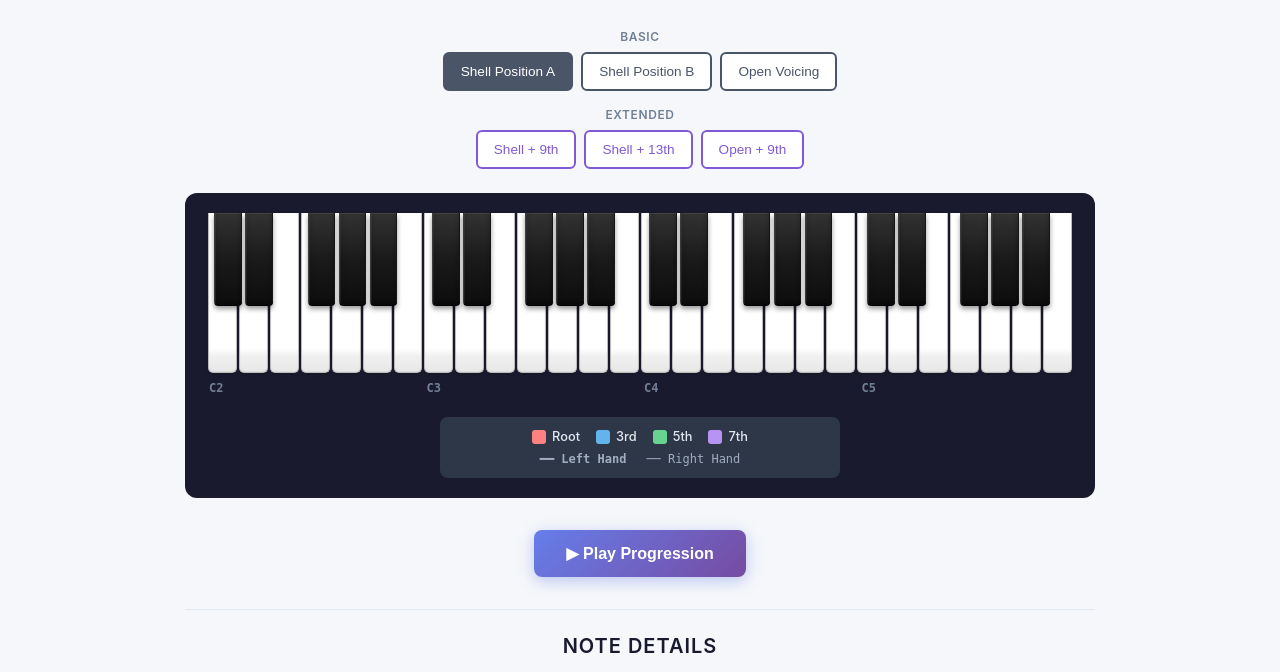
Test: VoicingDisplay › displays different notes for Shell Position B
Switch to Shell B
What coordinates should you click on to do the following:
click the button "Shell Position B"
I would click on:
 (647, 72)
Its box is [581,52,712,91].
(page scrolled)
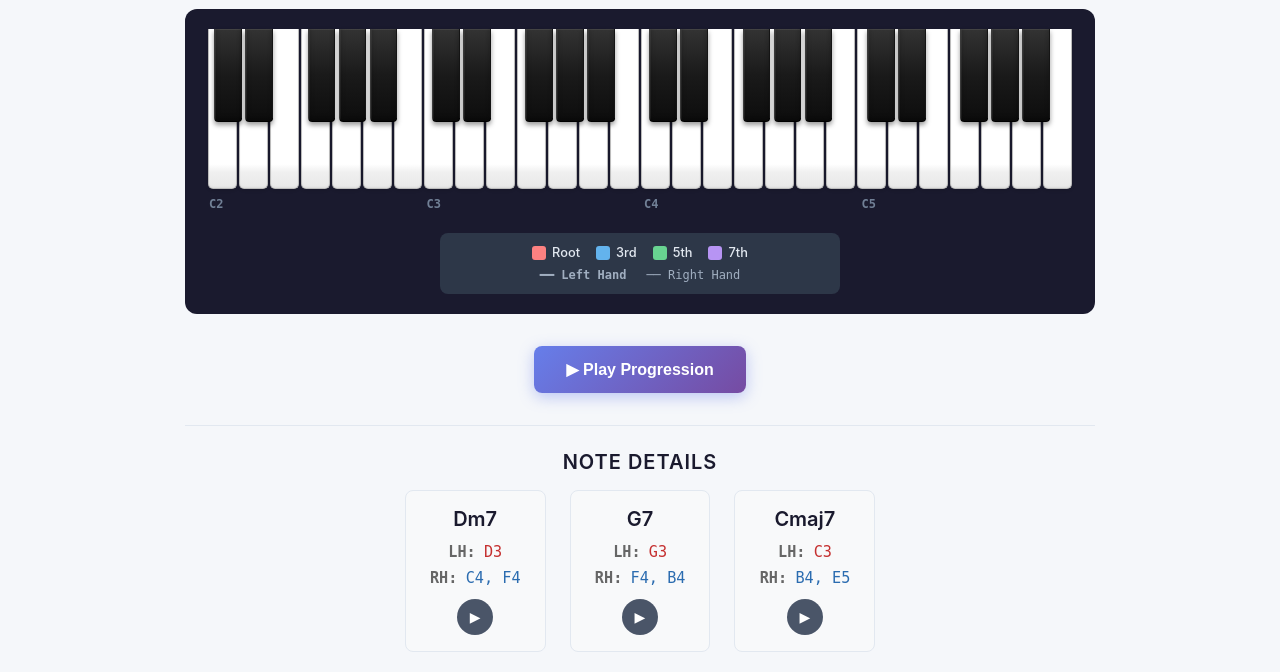
Check: the text "D3" is shown, box [484,543,502,561]
Check: the text "C4, F4" is shown, box [466,569,521,587]
